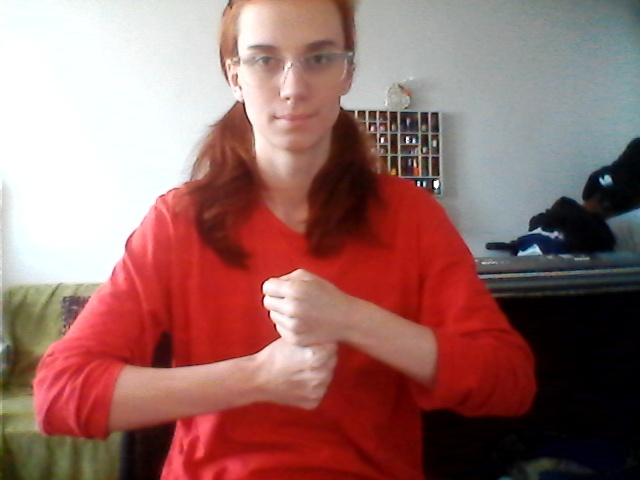g: (249, 255, 358, 422)
